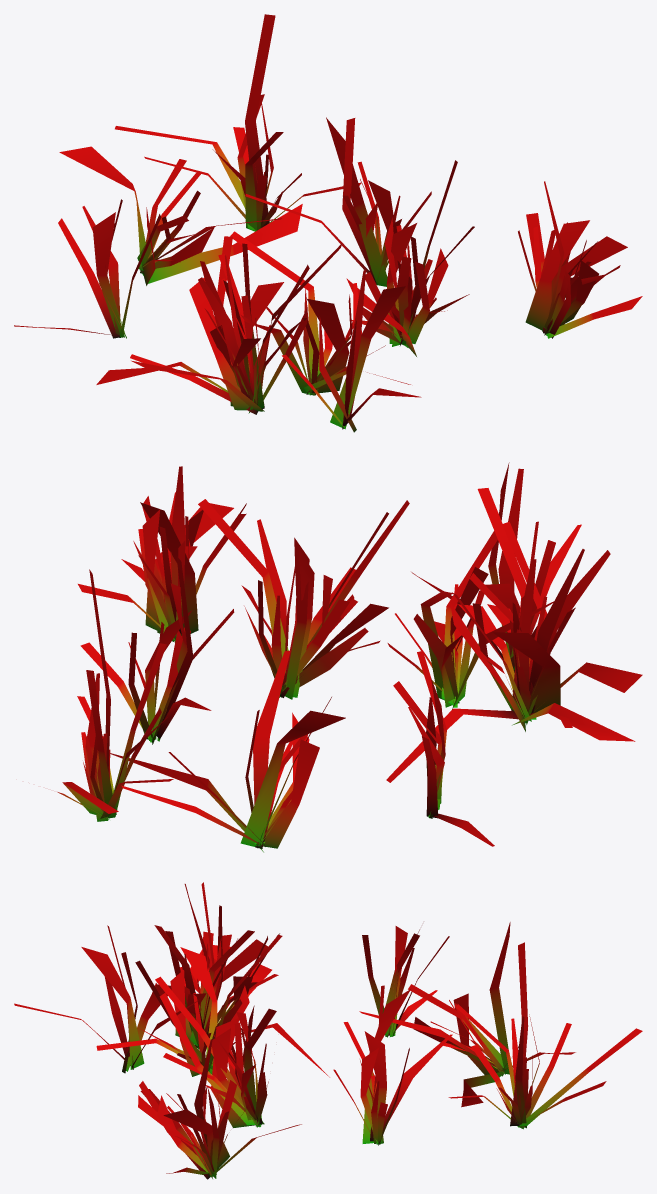
The model's file is Grass Clumps_LOD1_Var3_rbdoo.fbx.
3 renders of one model, top to bottom at view 1: azimuth 30°, elevation 25°; view 2: azimuth 150°, elevation 25°; view 3: azimuth 270°, elevation 25°, orthographic. The views are drawn at different scales.
Parts seen in each view (by area): view 1: _fffe_Var3_LOD1; view 2: _fffe_Var3_LOD1; view 3: _fffe_Var3_LOD1.
Boxes of the visible parts, bbox=[...] form: _fffe_Var3_LOD1: bbox=[14, 14, 642, 432]; _fffe_Var3_LOD1: bbox=[57, 462, 642, 852]; _fffe_Var3_LOD1: bbox=[14, 882, 642, 1179].
Size of the model in its own units: 60.38 by 26.33 by 75.15.
